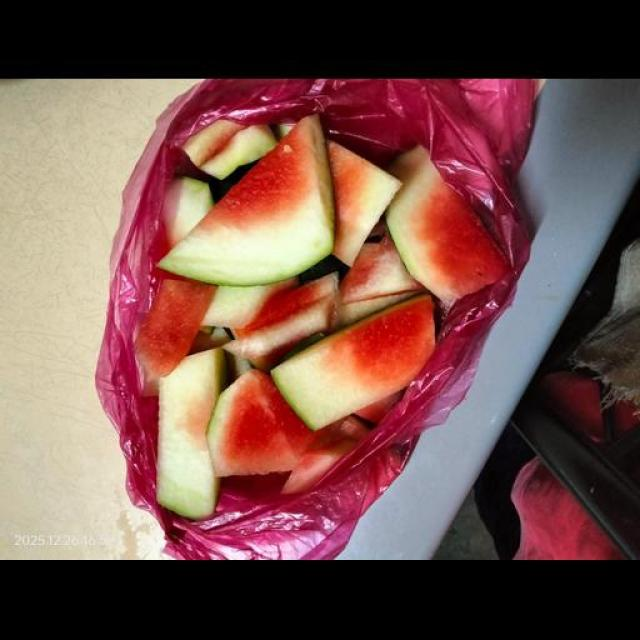organic: (98, 79, 528, 558), (159, 117, 333, 286), (272, 295, 434, 429), (387, 147, 509, 304), (202, 122, 314, 228), (157, 349, 226, 519), (512, 458, 622, 559), (413, 183, 508, 297), (213, 370, 313, 476), (227, 274, 337, 368), (328, 295, 434, 391), (328, 142, 399, 264), (225, 293, 337, 369), (135, 280, 216, 379), (224, 372, 311, 457), (283, 417, 368, 493), (235, 274, 336, 337), (340, 237, 422, 303), (205, 278, 297, 329), (540, 372, 603, 443), (200, 125, 277, 179), (282, 438, 357, 493), (328, 143, 376, 226), (163, 178, 213, 246), (184, 120, 244, 166), (310, 417, 368, 448), (200, 123, 244, 163), (179, 398, 212, 447), (357, 392, 402, 423), (189, 332, 229, 353)
